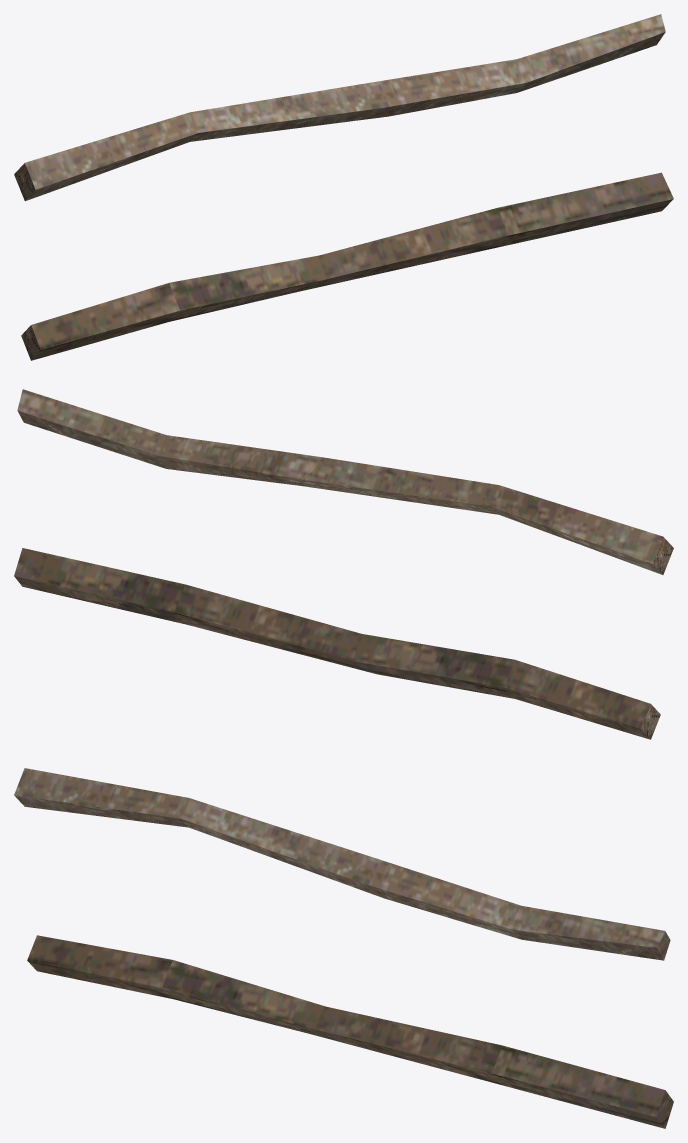
Rendered from WoodRailFence_Panel_Open01_Model.fbx.
3 renders of one model, top to bottom at view 1: azimuth 30°, elevation 25°; view 2: azimuth 150°, elevation 25°; view 3: azimuth 330°, elevation 25°, orthographic.
Visible parts, largest first — view 1: Body; view 2: Body; view 3: Body.
Boxes of the visible parts, x1,y1,x2,y2 form: Body: [14, 14, 673, 360]; Body: [14, 389, 673, 739]; Body: [14, 768, 673, 1128].
Bounding box in the file's own units: 200 × 64.45 × 13.64.
